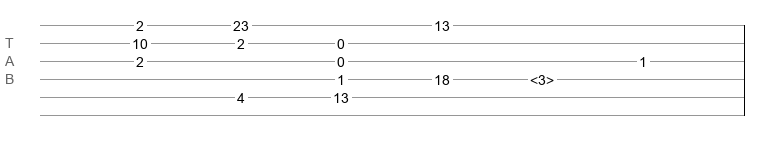0: (337, 36, 345, 46), (337, 54, 345, 64)
1: (337, 72, 345, 82), (639, 54, 647, 64)
10: (132, 36, 148, 46)
13: (333, 90, 349, 100), (434, 18, 450, 28)
18: (434, 72, 450, 82)
2: (136, 18, 144, 28), (136, 54, 144, 64), (237, 36, 245, 46)
23: (233, 18, 249, 28)
4: (237, 90, 245, 100)
harmonic: (530, 72, 554, 82)
